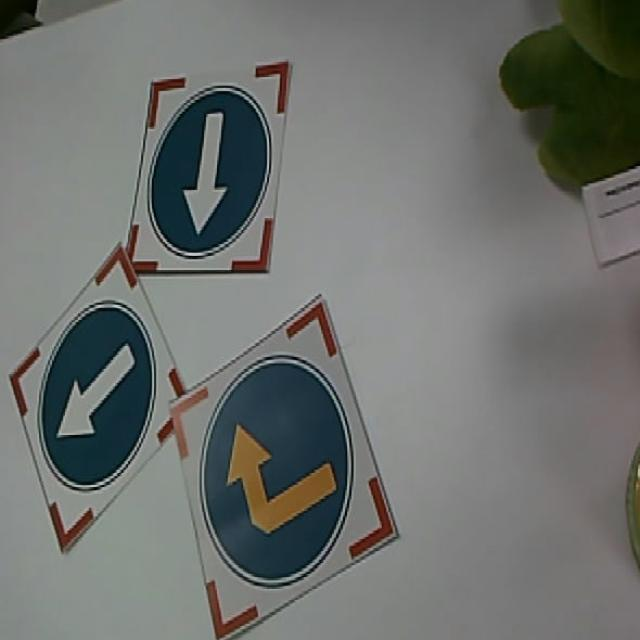straight: (11, 253, 187, 552), (121, 59, 295, 274)
turn: (167, 295, 396, 638)
